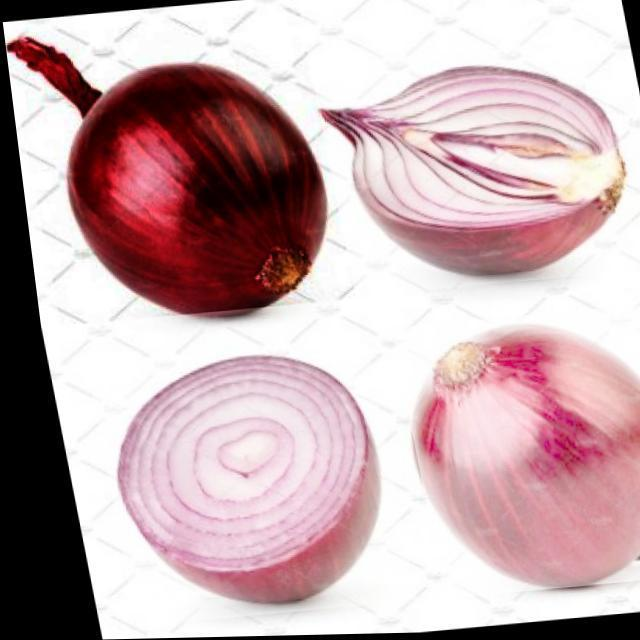Onion: (1, 7, 348, 326), (74, 338, 402, 626), (308, 26, 636, 297), (380, 306, 640, 600)
